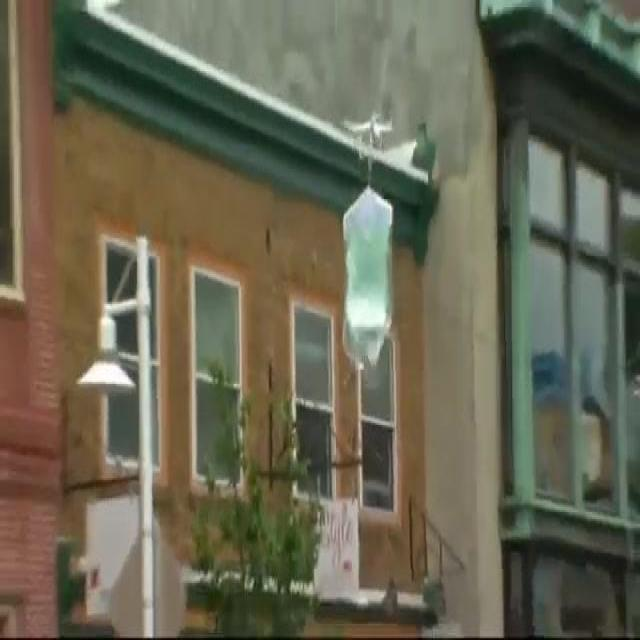UAV: (344, 110, 392, 160)
